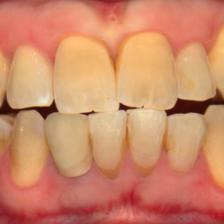cavity: (159, 128, 177, 154), (106, 51, 124, 75), (84, 125, 96, 157), (99, 165, 124, 180), (120, 126, 133, 150)
